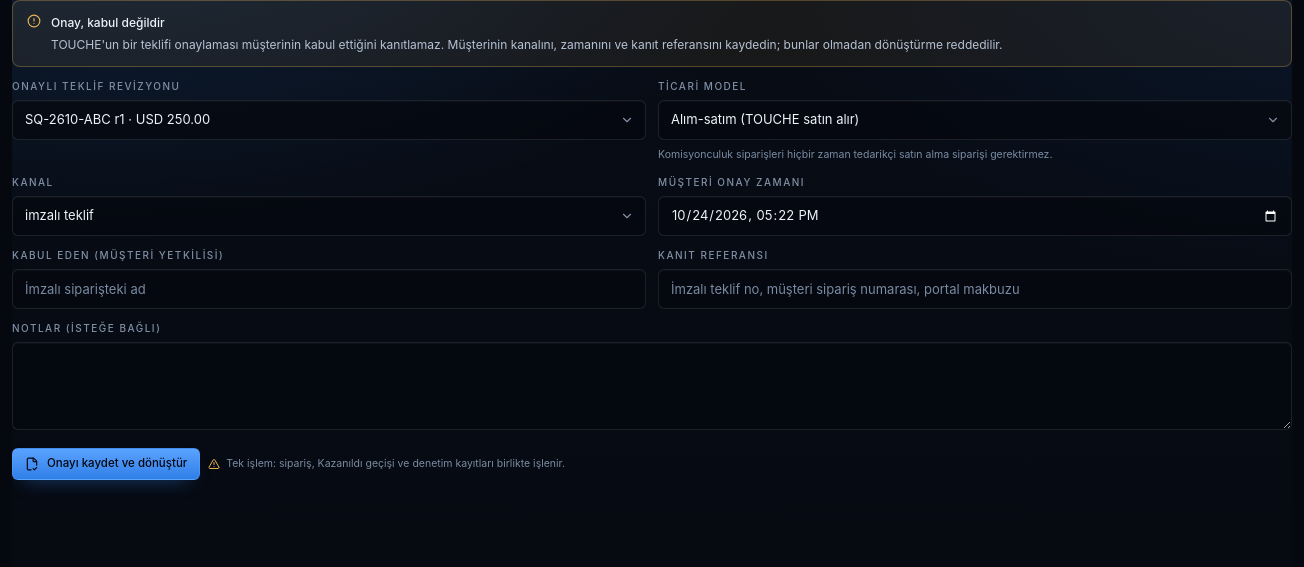
Test: conversion panel in Turkish › explains approval versus acceptance and validates the evidence in Turkish
The image size is (1304, 567).
Expected: the text "Onay, kabul değildir" is shown, [51,15,165,30]
Expected: the dropdown labelled "Onaylı teklif revizyonu" is shown, [12,100,646,140]
Type "Dana Buyer" into the field labelled "Kabul eden (müşteri yetkilisi)" at (329, 289), box [12,269,646,309]
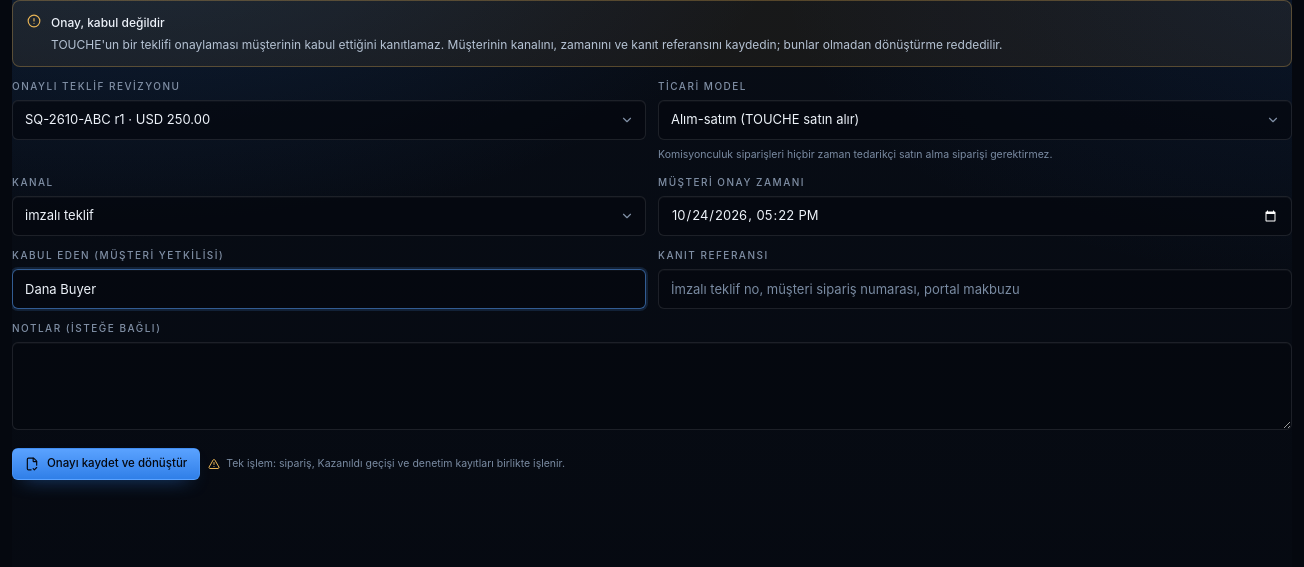
Click the button "Onayı kaydet ve dönüştür" at (106, 464), box [12,448,200,480]
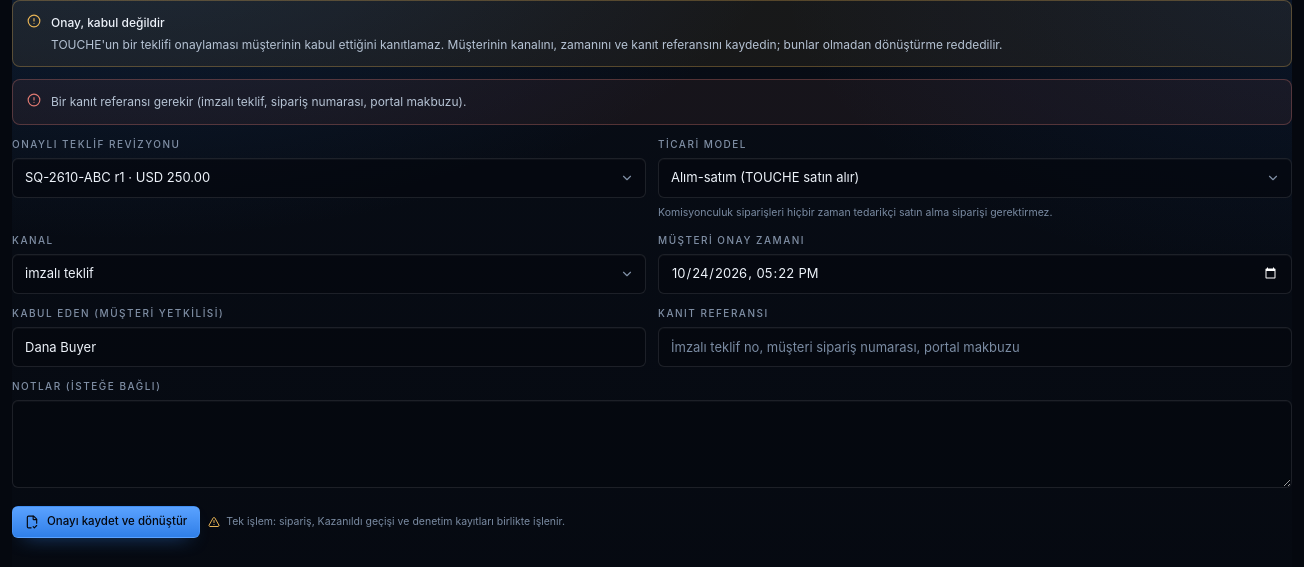
Now the text "Bir kanıt referansı gerekir" is shown, box [51,94,466,109]
